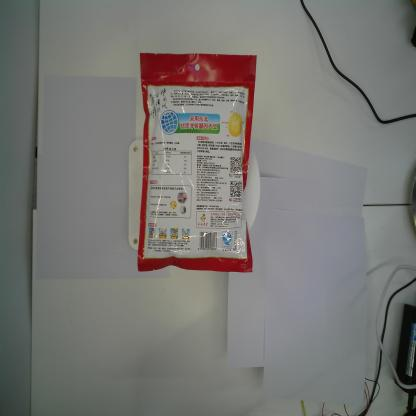Instant Drink: (135, 49, 257, 274)
